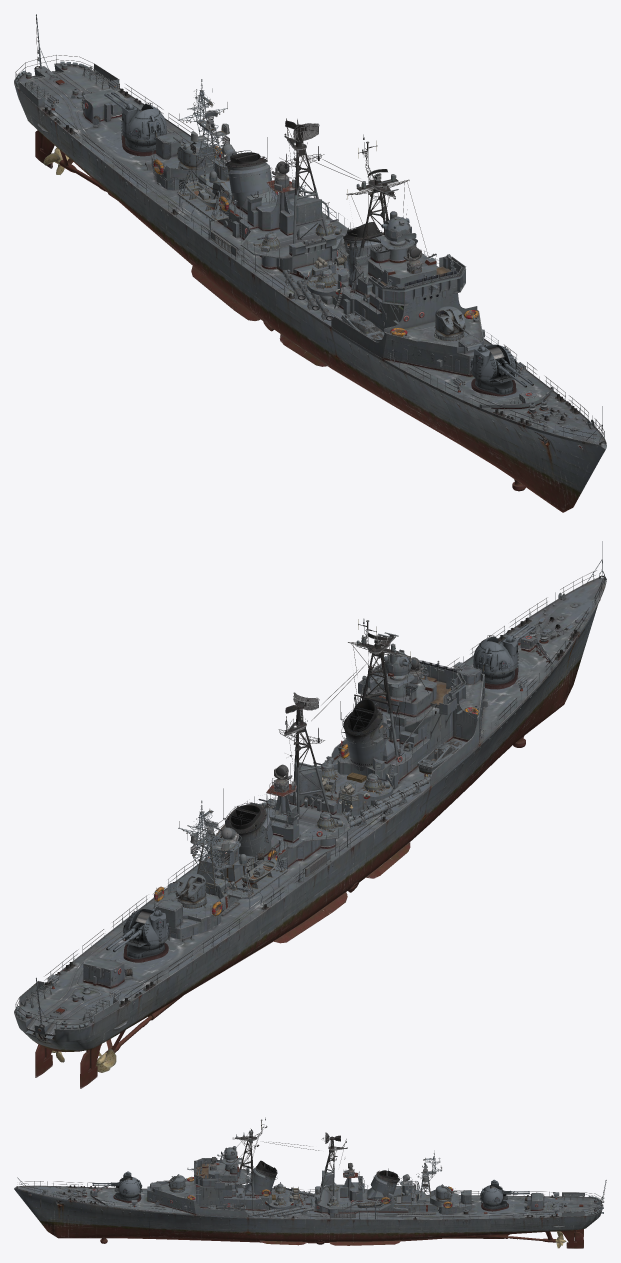
Rendered from PLAGuangzhou-maximum-compressed.glb.
The picture shows the model from 3 angles, top to bottom: view 1: azimuth 30°, elevation 25°; view 2: azimuth 150°, elevation 25°; view 3: azimuth 270°, elevation 25°; orthographic projection. The views are drawn at different scales.
Parts seen in each view (by area): view 1: body004, object 39, ex_armor_013, object 40, superstructure_bottom_Pr_F57EF582_3868_4253_9D2C_E8D4B72FF7D, AK-130, mast_008, mast_009, AK-131, superstructure003, object 43, superstructure_side002_Pr_F57EF582_3868_4253_9D2C_E8D4B72FF7 (+10 smaller); view 2: body004, object 39, ex_armor_013, superstructure_top001_Pr_F57EF582_3868_4253_9D2C_E8D4B72FF7D, mast_009, AK-131, superstructure_bottom_Pr_F57EF582_3868_4253_9D2C_E8D4B72FF7D, AK-130, object 40, mast_008, superstructure003, object 41 (+9 smaller); view 3: body004, object 39, object 40, ex_armor_013, object 45, superstructure003, object 41, superstructure_bottom_Pr_F57EF582_3868_4253_9D2C_E8D4B72FF7D, AK-131, mast_009, superstructure_top001_Pr_F57EF582_3868_4253_9D2C_E8D4B72FF7D, AK-130 (+15 smaller).
Boxes of the visible parts, bbox=[...] form: body004: bbox=[14, 63, 606, 512]; object 39: bbox=[14, 64, 604, 444]; ex_armor_013: bbox=[319, 233, 477, 332]; object 40: bbox=[331, 309, 516, 383]; superstructure_bottom_Pr_F57EF582_3868_4253_9D2C_E8D4B72FF7D: bbox=[217, 137, 278, 216]; AK-130: bbox=[470, 344, 533, 396]; mast_008: bbox=[279, 118, 367, 243]; mast_009: bbox=[318, 134, 436, 313]; AK-131: bbox=[104, 92, 166, 156]; superstructure003: bbox=[168, 201, 350, 295]; object 43: bbox=[224, 198, 349, 257]; superstructure_side002_Pr_F57EF582_3868_4253_9D2C_E8D4B72FF7: bbox=[247, 173, 294, 235]; body004: bbox=[14, 577, 606, 1072]; object 39: bbox=[14, 578, 605, 1034]; ex_armor_013: bbox=[337, 660, 477, 805]; superstructure_top001_Pr_F57EF582_3868_4253_9D2C_E8D4B72FF7D: bbox=[338, 699, 399, 770]; mast_009: bbox=[322, 618, 436, 783]; AK-131: bbox=[106, 908, 169, 962]; superstructure_bottom_Pr_F57EF582_3868_4253_9D2C_E8D4B72FF7D: bbox=[223, 788, 286, 863]; AK-130: bbox=[473, 624, 535, 689]; object 40: bbox=[331, 665, 516, 785]; mast_008: bbox=[278, 664, 365, 819]; superstructure003: bbox=[168, 792, 381, 911]; object 41: bbox=[338, 673, 450, 770]; body004: bbox=[14, 1185, 602, 1245]; object 39: bbox=[18, 1186, 603, 1219]; object 40: bbox=[147, 1176, 247, 1217]; ex_armor_013: bbox=[187, 1157, 271, 1210]; object 45: bbox=[196, 1187, 269, 1210]; superstructure003: bbox=[297, 1185, 419, 1219]; object 41: bbox=[196, 1158, 271, 1199]; superstructure_bottom_Pr_F57EF582_3868_4253_9D2C_E8D4B72FF7D: bbox=[367, 1168, 399, 1204]; AK-131: bbox=[479, 1179, 529, 1211]; mast_009: bbox=[223, 1117, 309, 1210]; superstructure_top001_Pr_F57EF582_3868_4253_9D2C_E8D4B72FF7D: bbox=[245, 1160, 277, 1197]; AK-130: bbox=[92, 1171, 142, 1202].
Size of the model in its own units: 0.3382 by 0.7555 by 3.22.
Materials: 44 (43 with a texture image).
